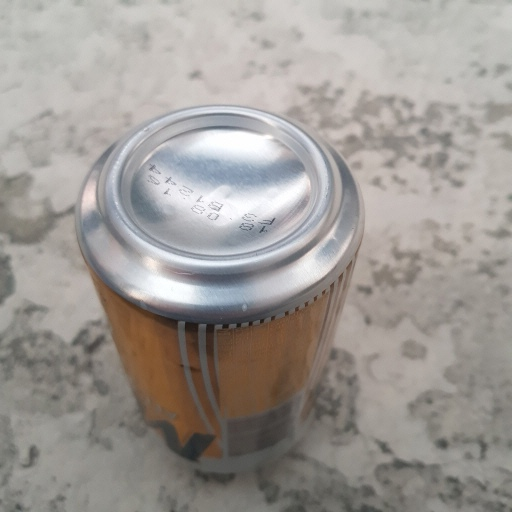Metal_0: (72, 107, 365, 475)
